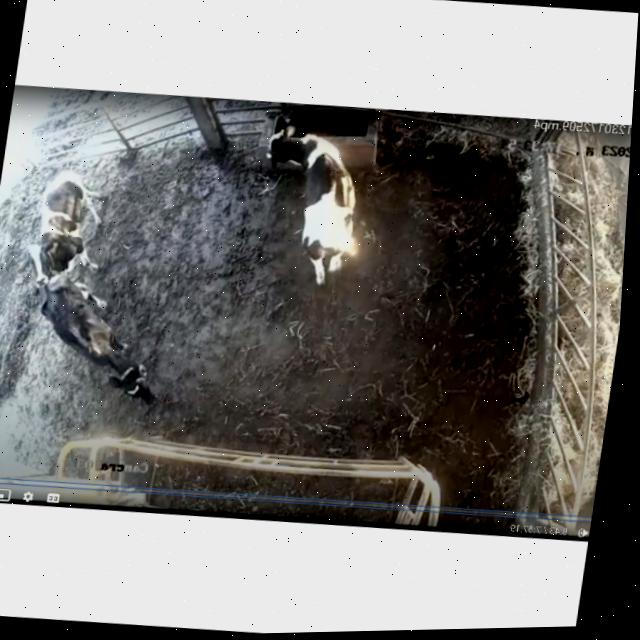propping: (13, 224, 85, 320)
